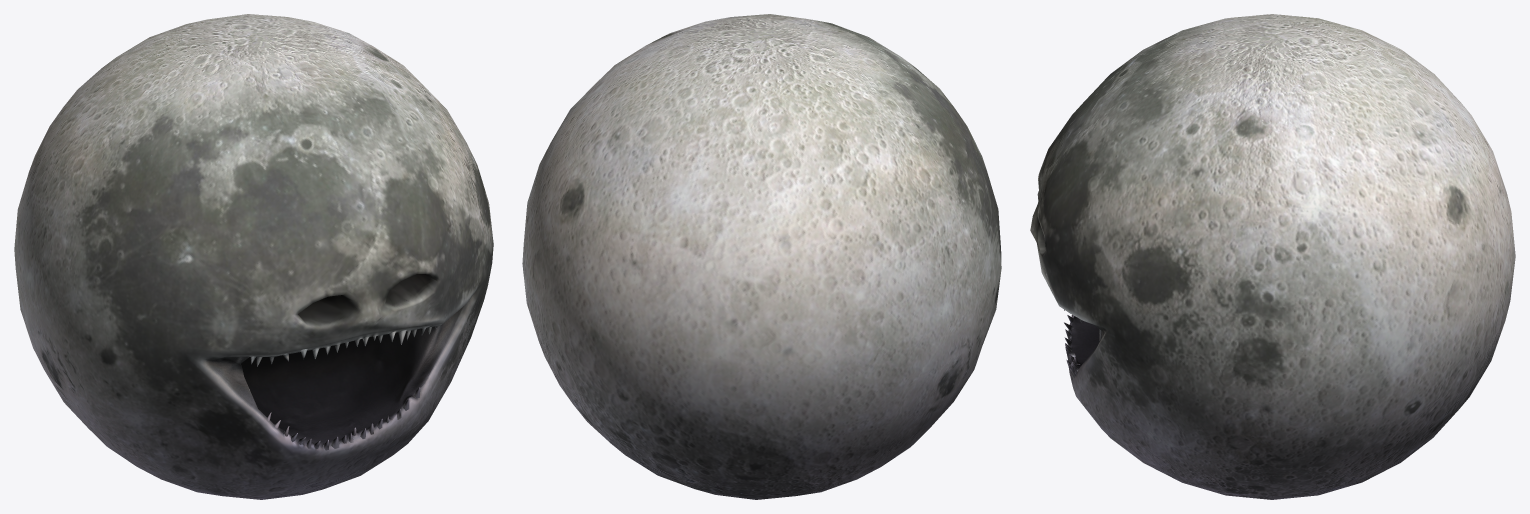
Rendered from moon.glb.
3 views of the same model, side by side, from view 1: azimuth 30°, elevation 25°; view 2: azimuth 150°, elevation 25°; view 3: azimuth 270°, elevation 25° (orthographic).
Visible parts, largest first — view 1: Moon WokeUp; view 2: Moon WokeUp; view 3: Moon WokeUp.
Part boxes in pixels (bbox=[...]): Moon WokeUp: bbox=[14, 14, 493, 499]; Moon WokeUp: bbox=[522, 14, 1001, 499]; Moon WokeUp: bbox=[1030, 14, 1515, 499].
Bounding box in the file's own units: 0.0198 × 0.02 × 0.0199.
1 material, 1 textured.
